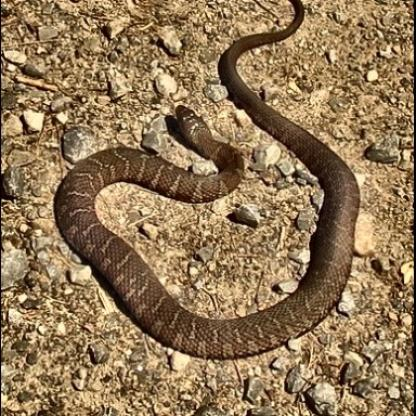Snake: (52, 7, 365, 363)
